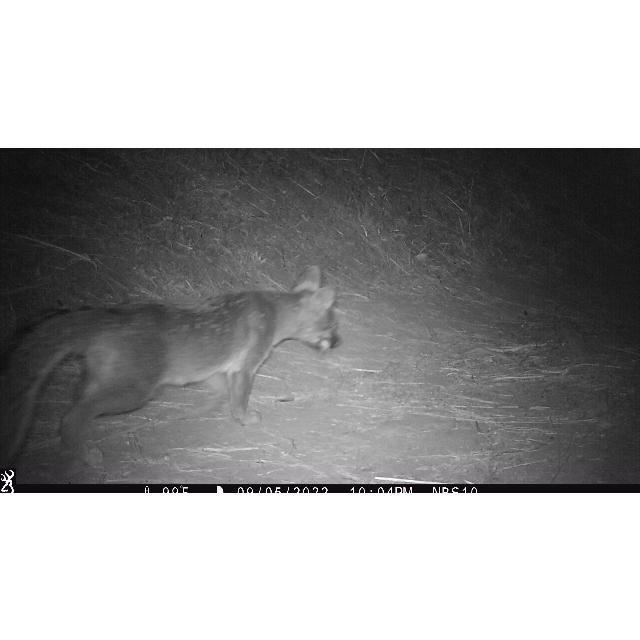animals: (1, 262, 342, 476)
